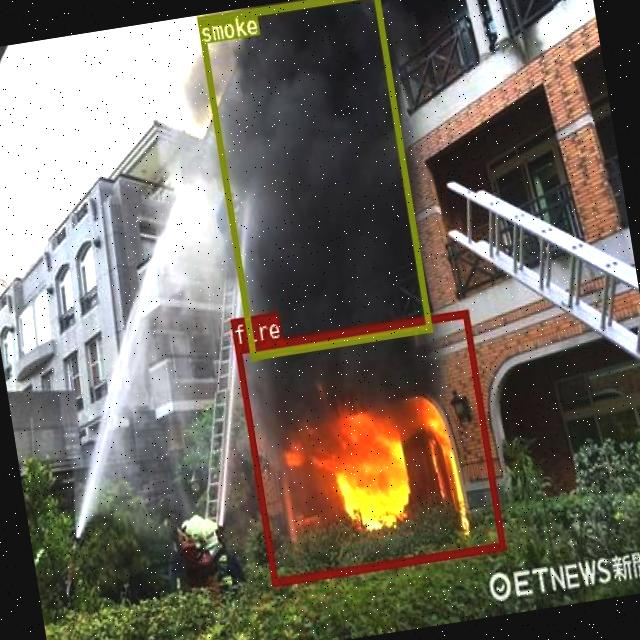fire: (234, 310, 505, 584)
smoke: (195, 0, 432, 359)
